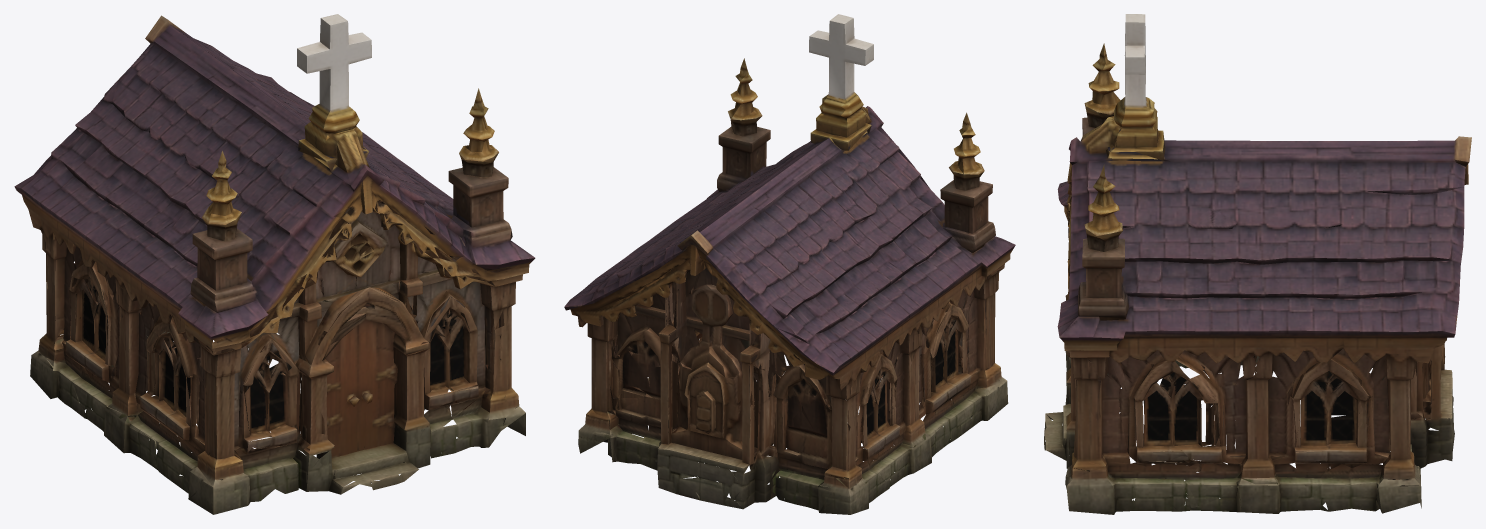
The model's file is church.glb.
3 views of the same model, side by side, from view 1: azimuth 30°, elevation 25°; view 2: azimuth 150°, elevation 25°; view 3: azimuth 270°, elevation 25° (orthographic). The views are drawn at different scales.
Visible parts, largest first — view 1: low; view 2: low; view 3: low.
Boxes of the visible parts, x1=… form: low: x1=14, y1=14, x2=535, y2=514; low: x1=564, y1=14, x2=1015, y2=514; low: x1=1044, y1=14, x2=1471, y2=514.
Bounding box in the file's own units: 0.7767 × 0.997 × 0.9133.
Materials: 1 (1 with a texture image).
